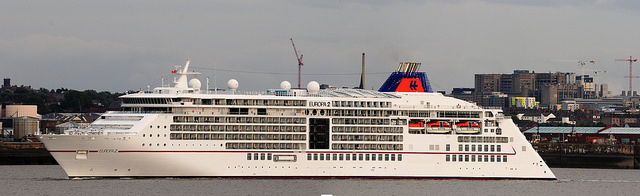cruise_ship: (33, 63, 563, 180)
